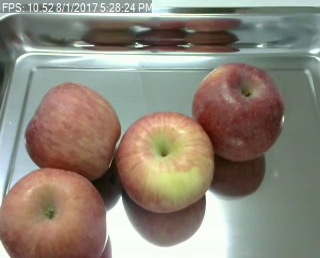Apple: (115, 111, 215, 213), (0, 167, 109, 258), (24, 82, 122, 182), (191, 61, 286, 161)
